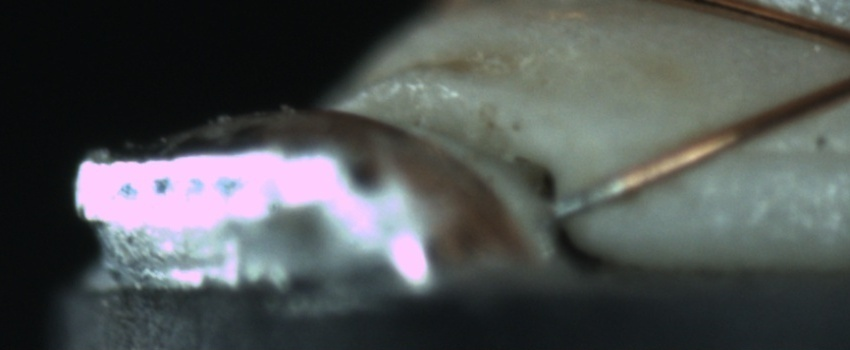DL: (711, 121, 850, 186)
TS: (550, 175, 621, 222)
